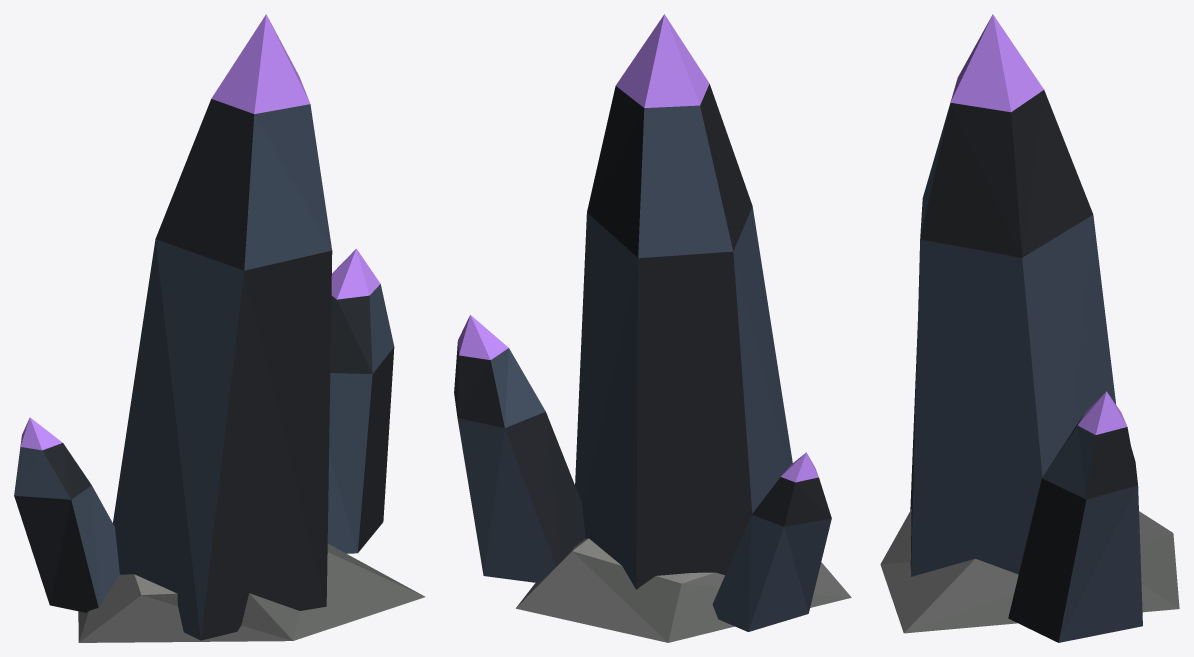
Rendered from obsidian_shard_l.fbx.
3 views of the same model, side by side, from view 1: azimuth 30°, elevation 25°; view 2: azimuth 150°, elevation 25°; view 3: azimuth 270°, elevation 25° (orthographic). The views are drawn at different scales.
Parts seen in each view (by area): view 1: obsidian_shard_l; view 2: obsidian_shard_l; view 3: obsidian_shard_l.
Part boxes in pixels (bbox=[...]): obsidian_shard_l: bbox=[14, 14, 425, 642]; obsidian_shard_l: bbox=[454, 14, 851, 642]; obsidian_shard_l: bbox=[880, 14, 1179, 642].
Bounding box in the file's own units: 1.01 × 1.42 × 0.6816.
